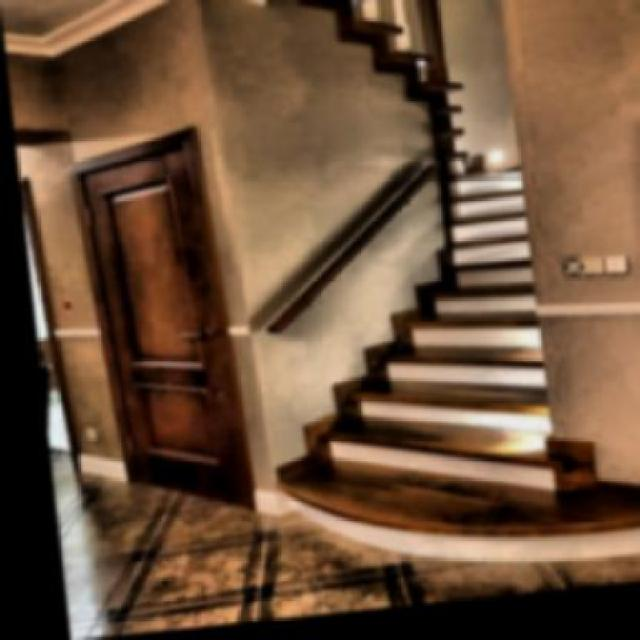stair: (257, 177, 609, 508)
